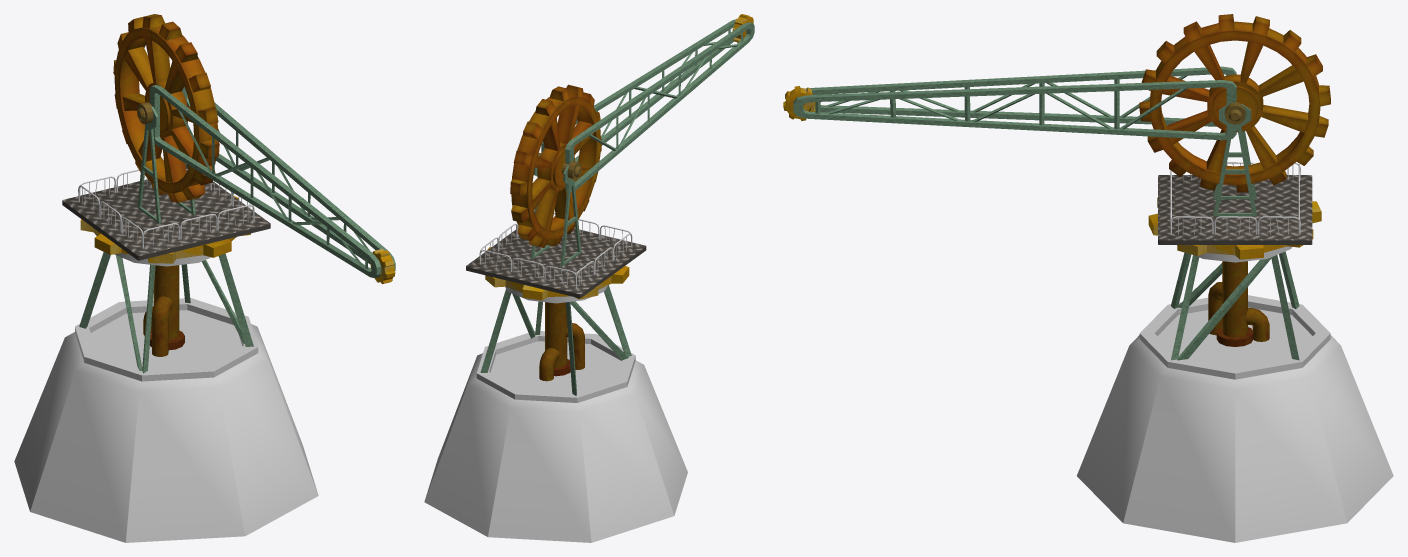
The model's file is Crane.fbx.
3 views of the same model, side by side, from view 1: azimuth 30°, elevation 25°; view 2: azimuth 150°, elevation 25°; view 3: azimuth 270°, elevation 25° (orthographic). The views are drawn at different scales.
Visible parts, largest first — view 1: Bottom Piece, Upper Piece, Mid Piece; view 2: Bottom Piece, Upper Piece, Mid Piece; view 3: Bottom Piece, Upper Piece, Mid Piece.
Part boxes in pixels (x1,y1,x2,y2): Bottom Piece: [14, 252, 318, 542]; Upper Piece: [113, 14, 395, 284]; Mid Piece: [62, 98, 270, 263]; Bottom Piece: [424, 285, 687, 542]; Upper Piece: [510, 14, 754, 247]; Mid Piece: [466, 165, 646, 300]; Bottom Piece: [1077, 245, 1393, 542]; Upper Piece: [783, 14, 1330, 192]; Mid Piece: [1148, 103, 1321, 259].
Bounding box in the file's own units: 825 × 1319 × 1589.
